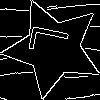L: (28, 23, 79, 60)
